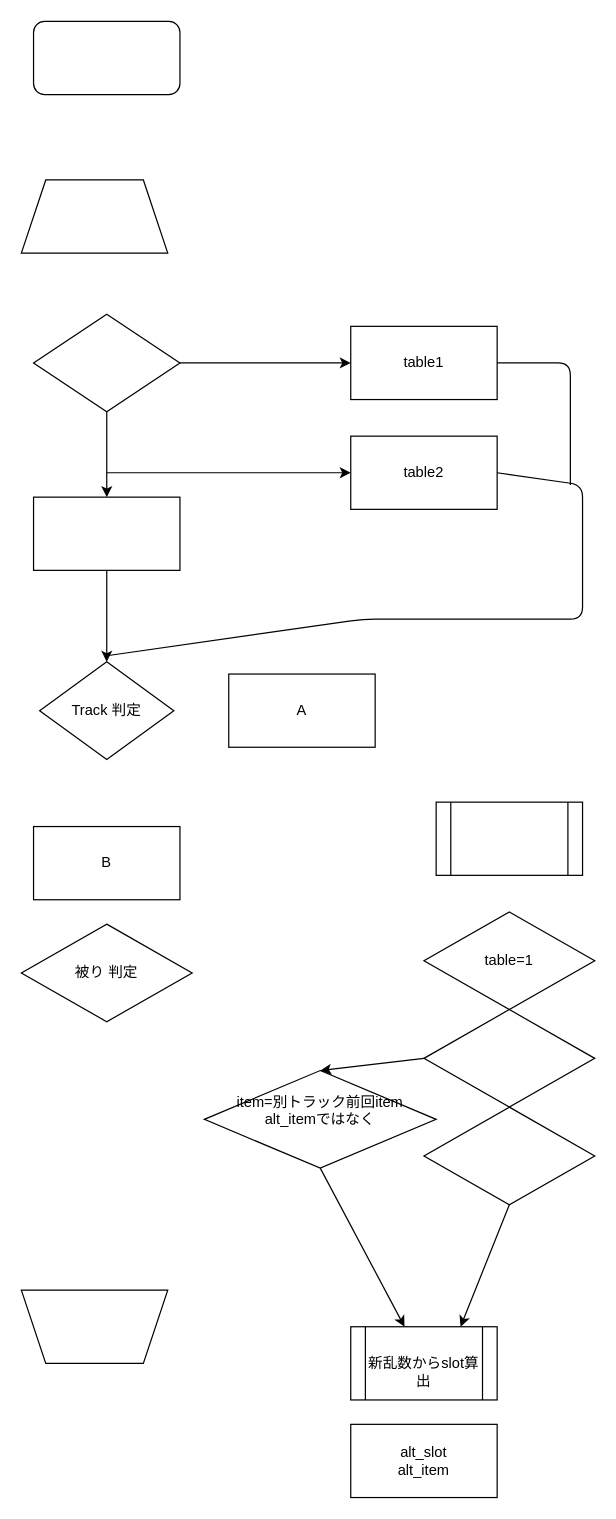
The diagram is 616 pixels wide and 1519 high, and some of its shapes have lost their labels. Each missing label, with the centre of its shape:
"item=前回item" belongs at point (509, 1155).
"rarityからtable判定" belongs at point (106, 362).
"table3" belongs at point (106, 533).
"track移動後？" belongs at point (509, 1057).
"被り判定" belongs at point (509, 838).
